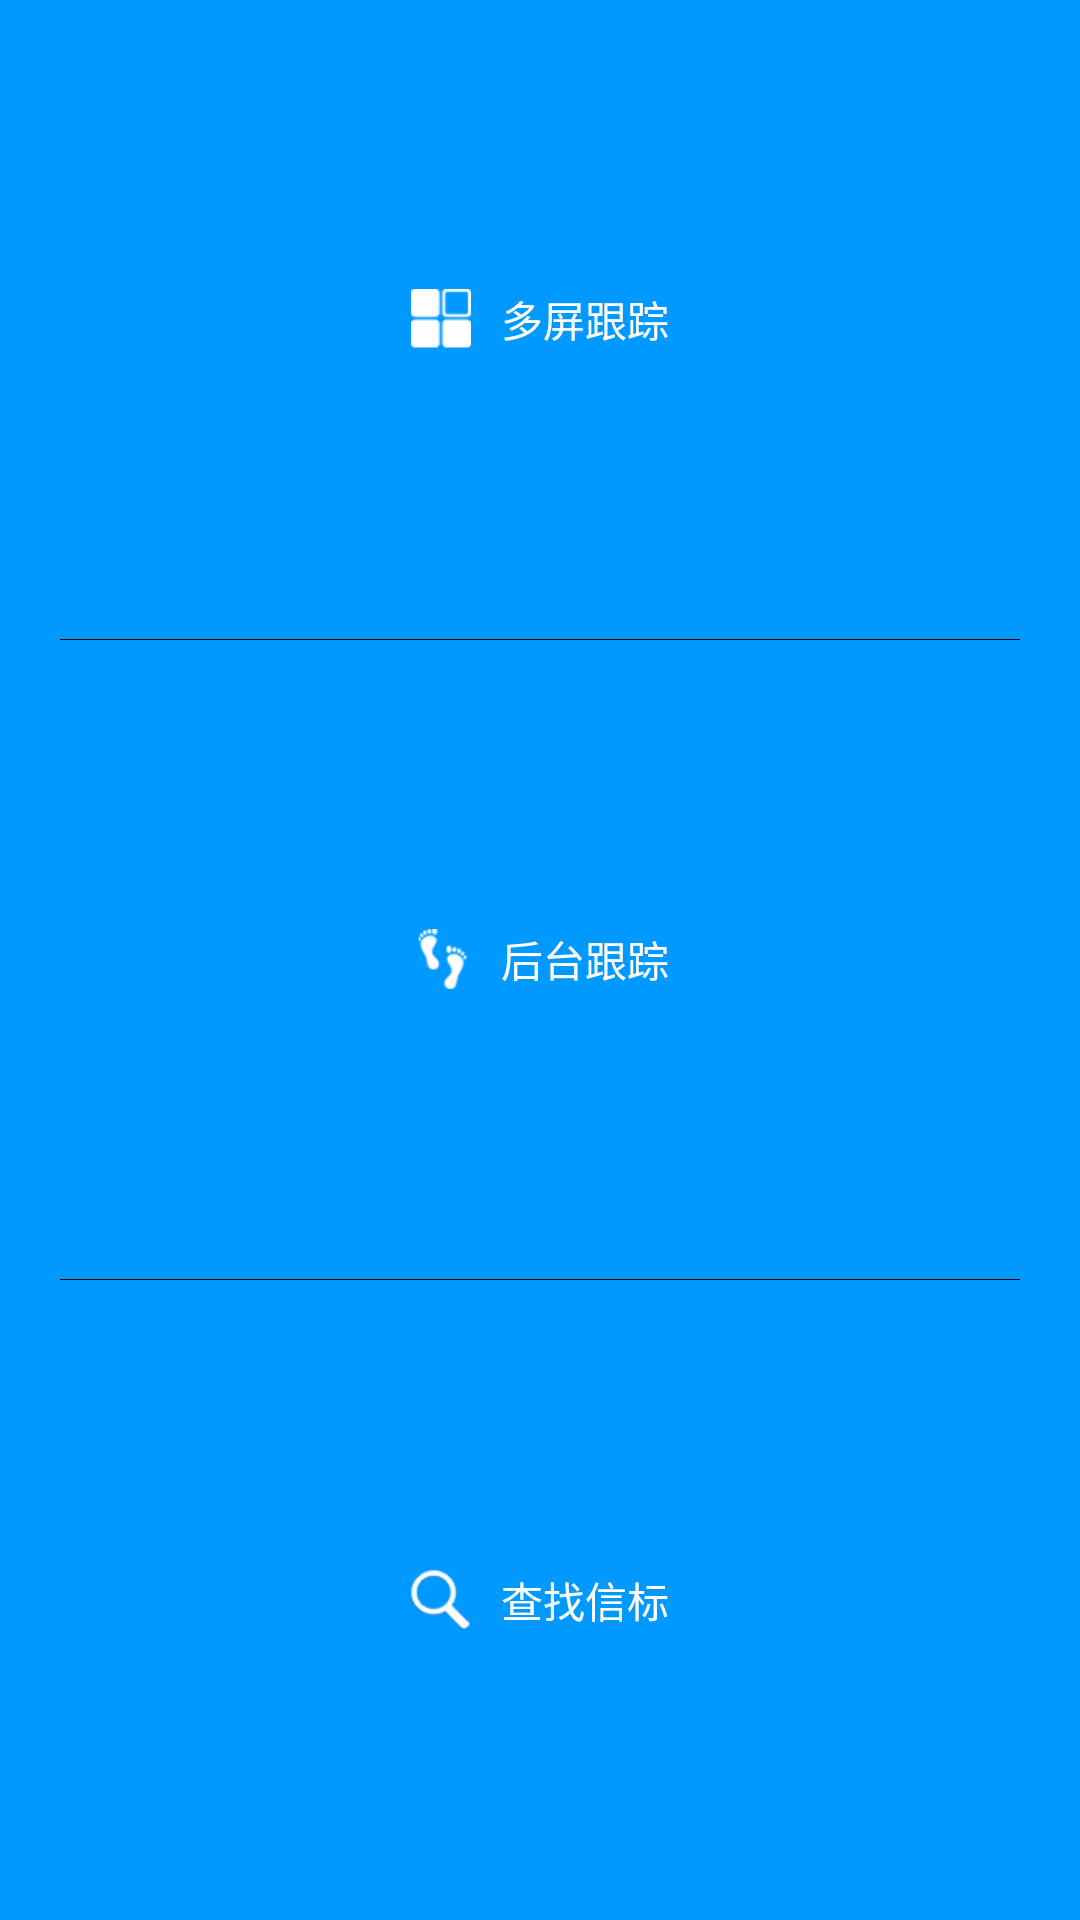

Where icons sit on this 1080px x 1920px app screen, as (x1, y1, x2, y2):
follow: (418, 929, 467, 989)
split screen: (411, 289, 471, 348)
title search: (411, 1570, 470, 1630)
